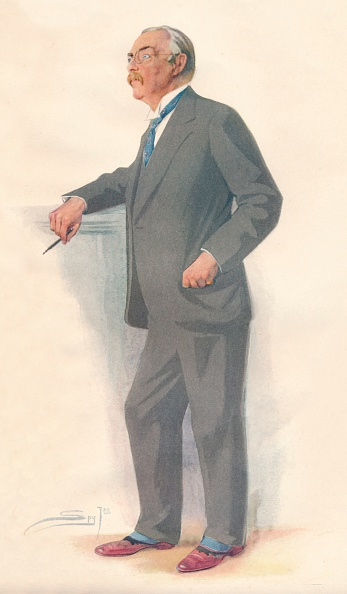em pe: (41, 16, 277, 570)
